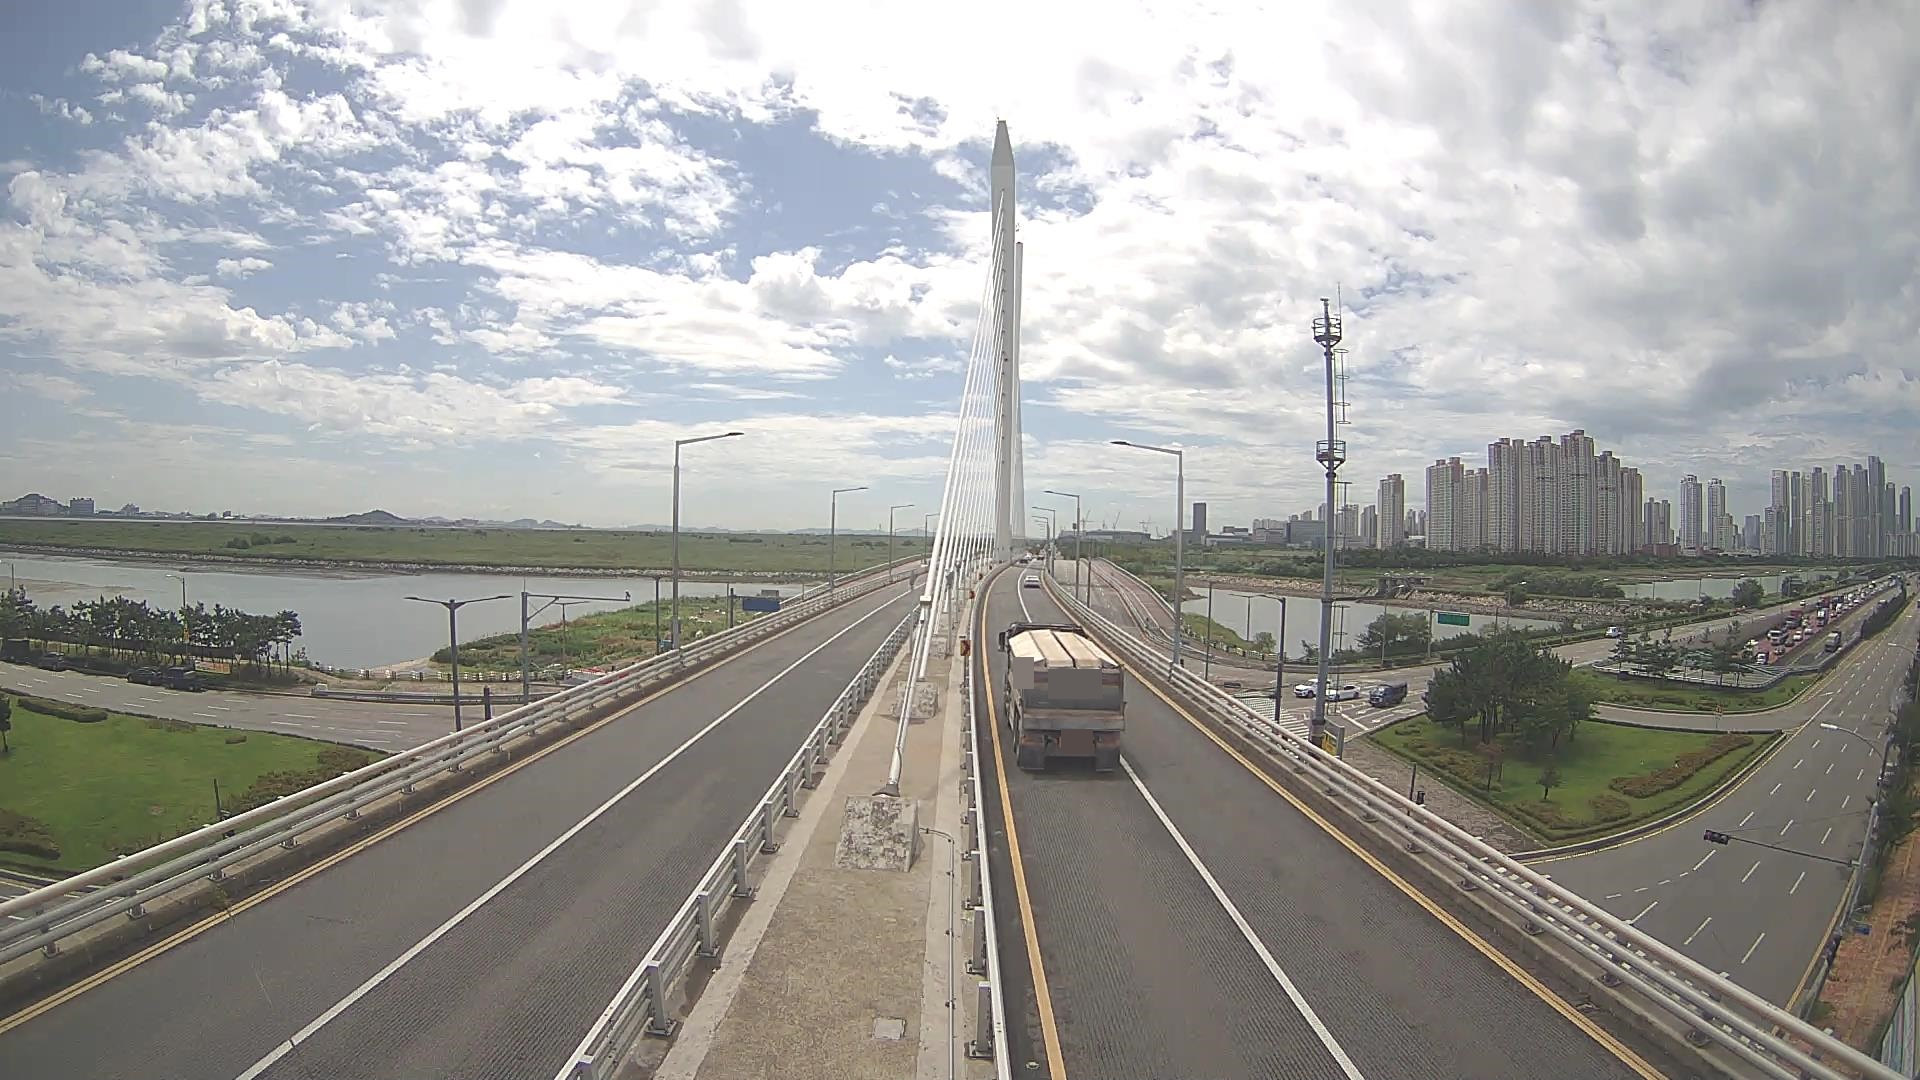정상차량: (998, 623, 1129, 774)
